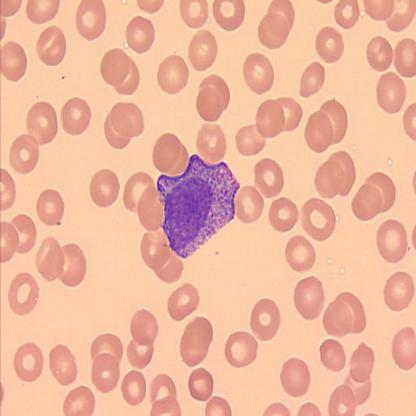Myelocyte: (156, 148, 240, 261)
